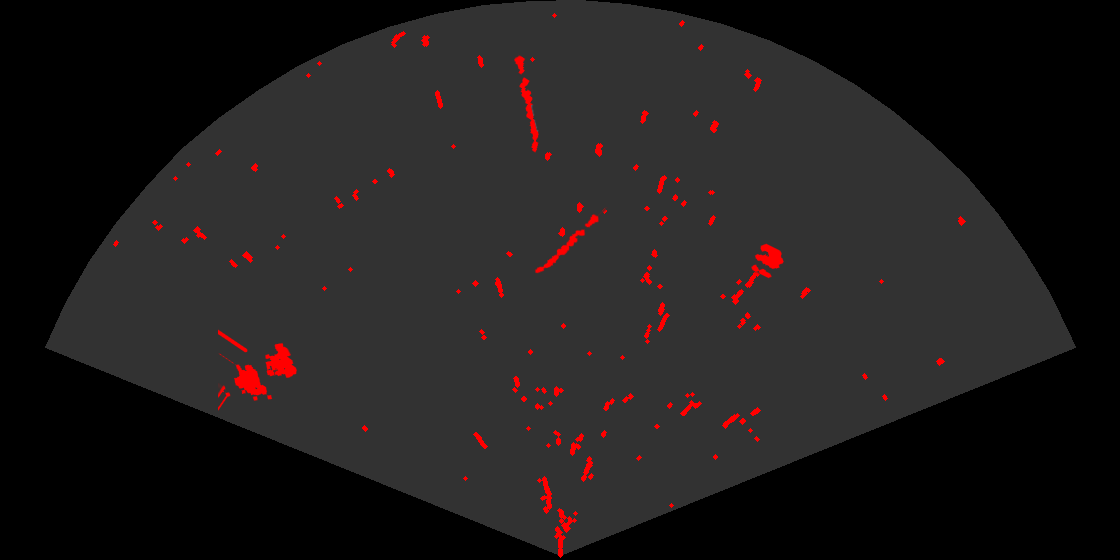ball: (750, 242, 785, 280)
cage: (218, 328, 299, 412)
chain: (533, 207, 609, 275), (513, 53, 540, 154)
